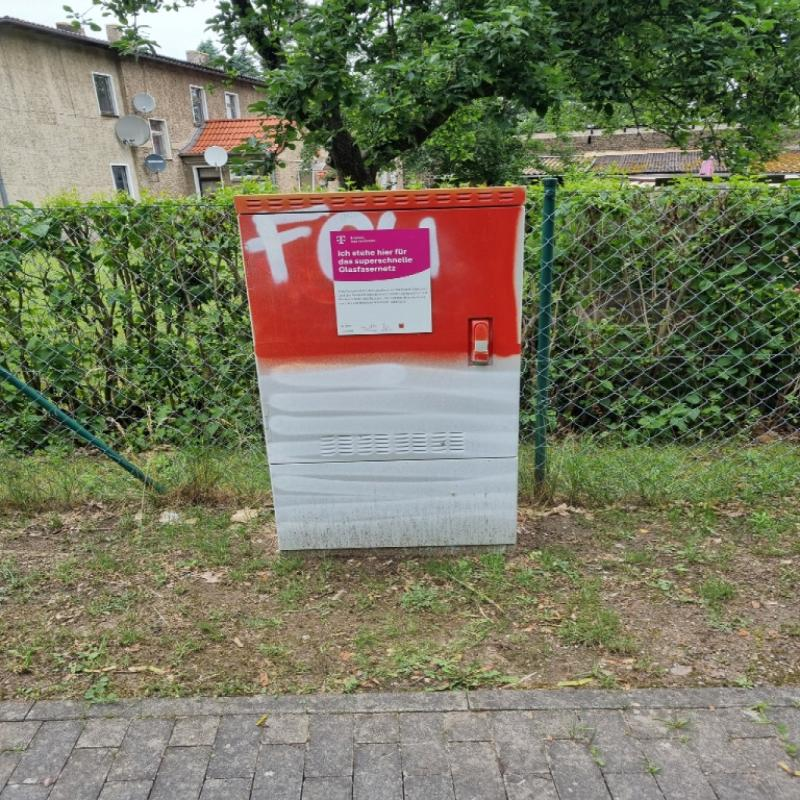NT-Gehause: (244, 187, 521, 544)
Steaker: (327, 225, 432, 337)
